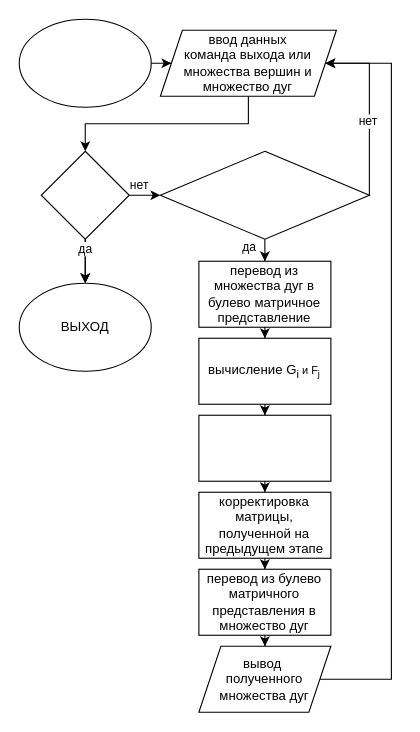
This 420x732 diagram has some shape labels left out. Here are the shapes that lost their labels. From the top down, the centre of each, then its label:
At [84,62]: "ВХОД".
At [84,194]: "введена команда выхода".
At [264,194]: "существует минимальное покрытие".
At [264,447]: "удаление единиц в строках с F i > 1".
